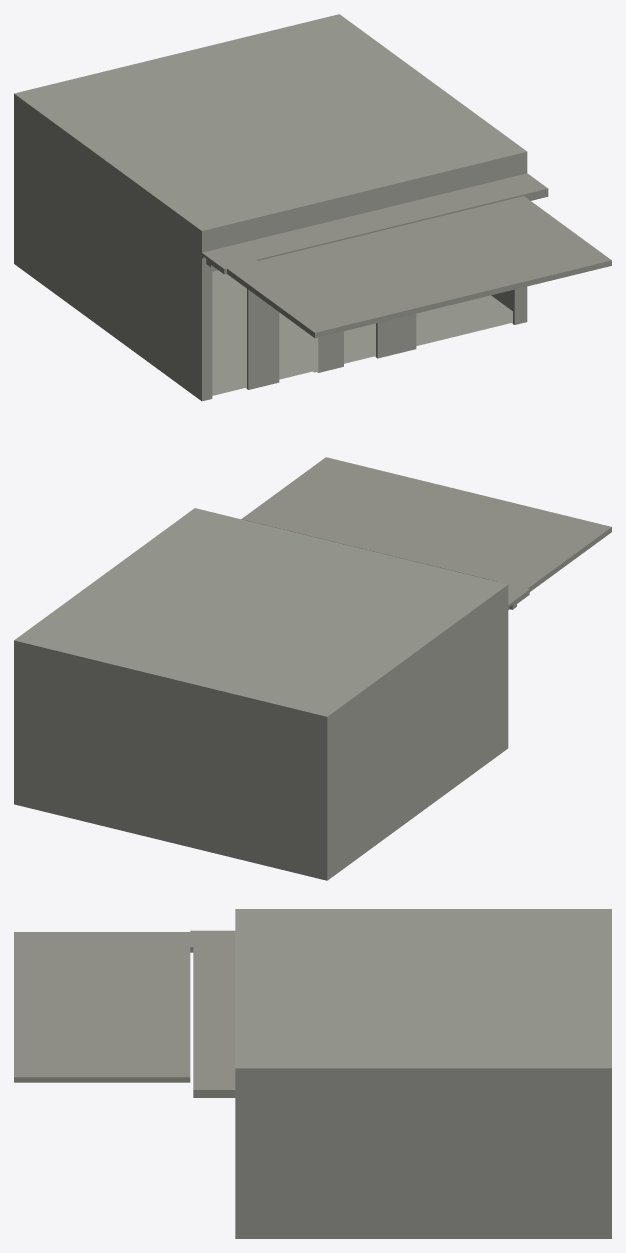
File: Hannahs.obj
3 renders of one model, top to bottom at view 1: azimuth 30°, elevation 25°; view 2: azimuth 150°, elevation 25°; view 3: azimuth 270°, elevation 25°, orthographic. The views are drawn at different scales.
Bounding box in the file's own units: 12.6 × 6.3 × 20.
